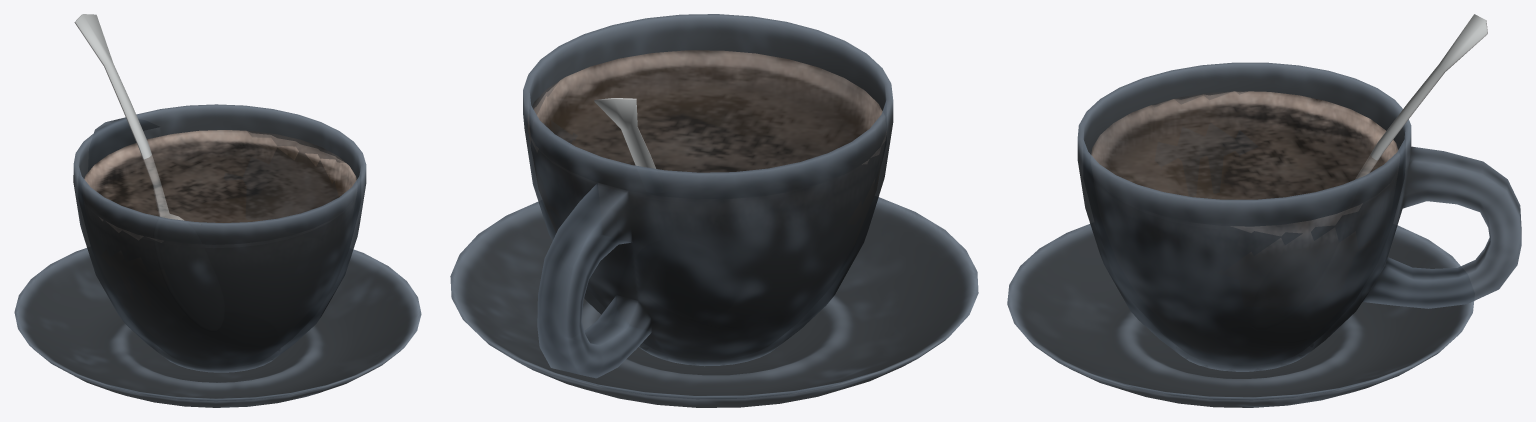
File: cup_of_coffee.glb
3 views of the same model, side by side, from view 1: azimuth 30°, elevation 25°; view 2: azimuth 150°, elevation 25°; view 3: azimuth 270°, elevation 25° (orthographic). The views are drawn at different scales.
Parts seen in each view (by area): view 1: Cup_low; view 2: Cup_low; view 3: Cup_low.
Boxes of the visible parts, left/top/right/bottom form: Cup_low: left=14, top=14, right=421, bottom=407; Cup_low: left=450, top=14, right=978, bottom=407; Cup_low: left=1007, top=14, right=1521, bottom=407.
Bounding box in the file's own units: 0.1648 × 0.1205 × 0.1813.
1 material, 1 textured.
